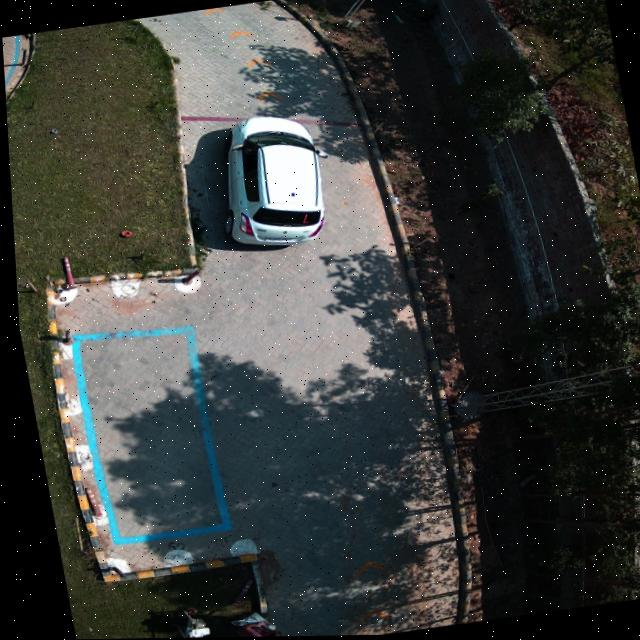car: (221, 117, 323, 247)
